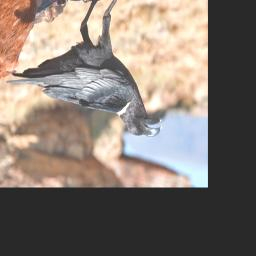Crow: (5, 0, 162, 141)
